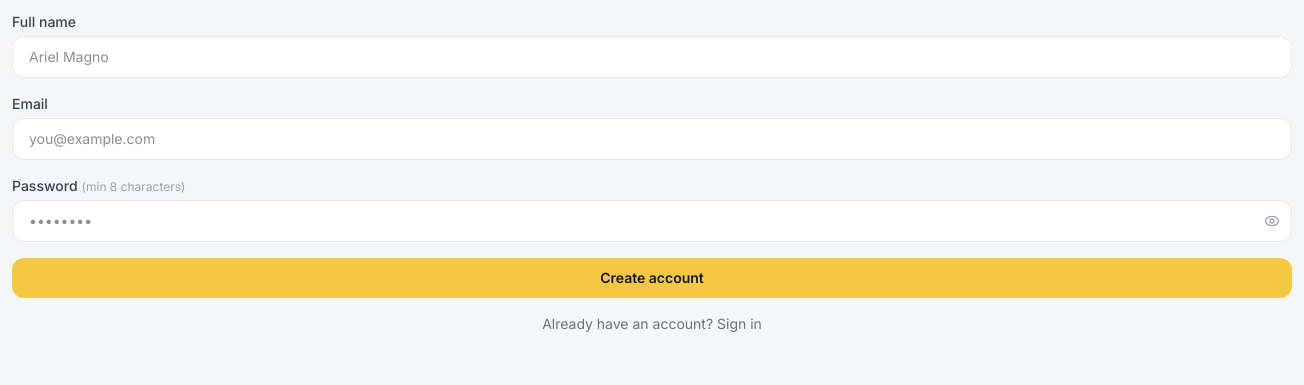
Test case: RegisterForm › shows a generic error when the server fails with a non-409 error
Type "Alice" into the field labelled "Full name" at coordinates (652, 57), box [12,36,1292,78]
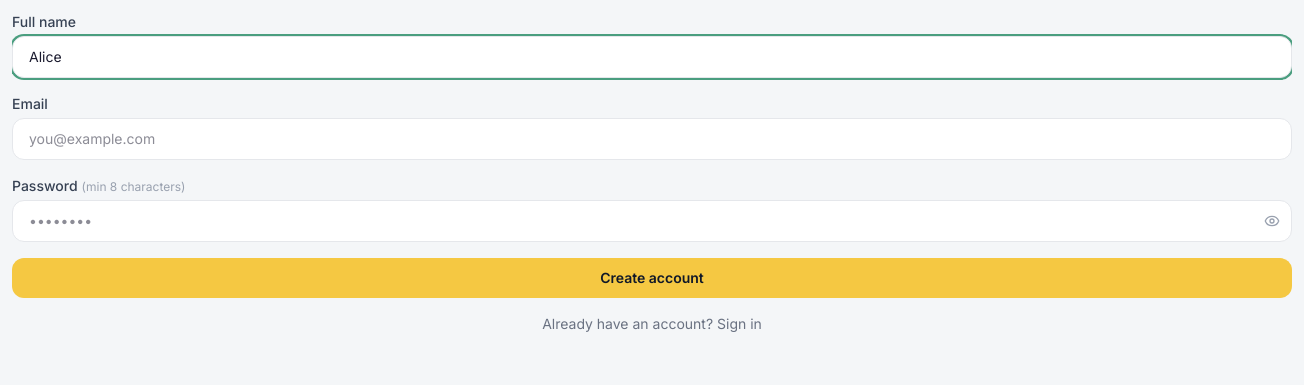
Type "alice@test.com" into the field labelled "Email" at coordinates (652, 139), box [12,118,1292,160]
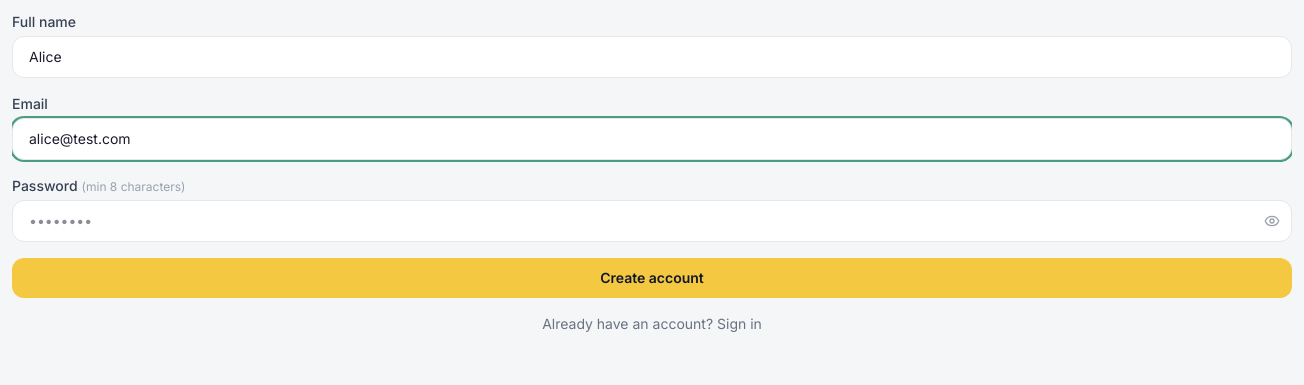
Type "password123" into the password field labelled "Password(min 8 characters)" at coordinates (652, 221), box [12,200,1292,242]
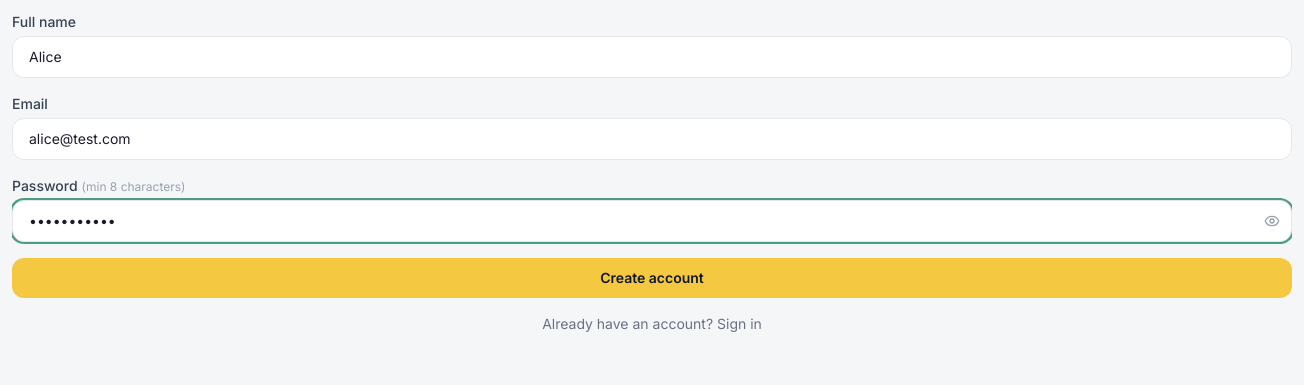
Click the button "Create account" at coordinates (652, 278), box [12,258,1292,298]
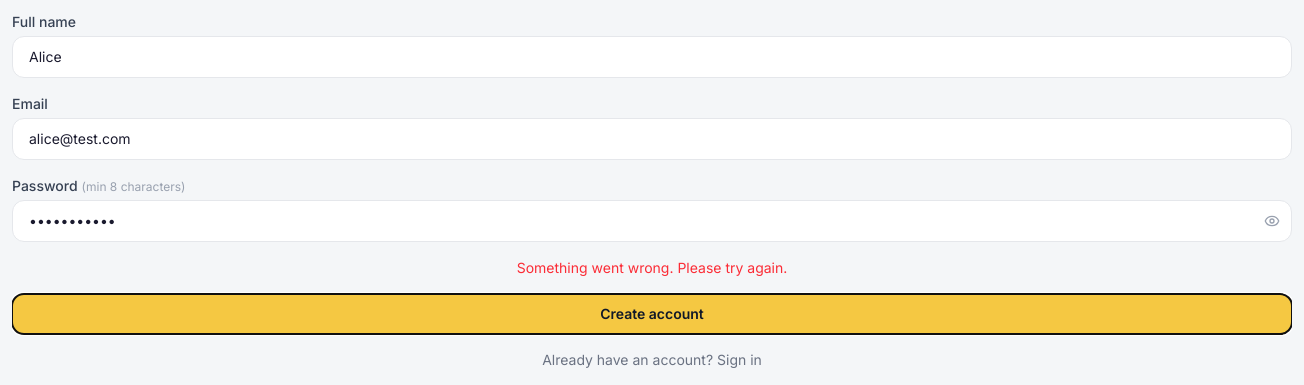
Now the text "Something went wrong. Please try again." is shown, box [517,259,787,276]
